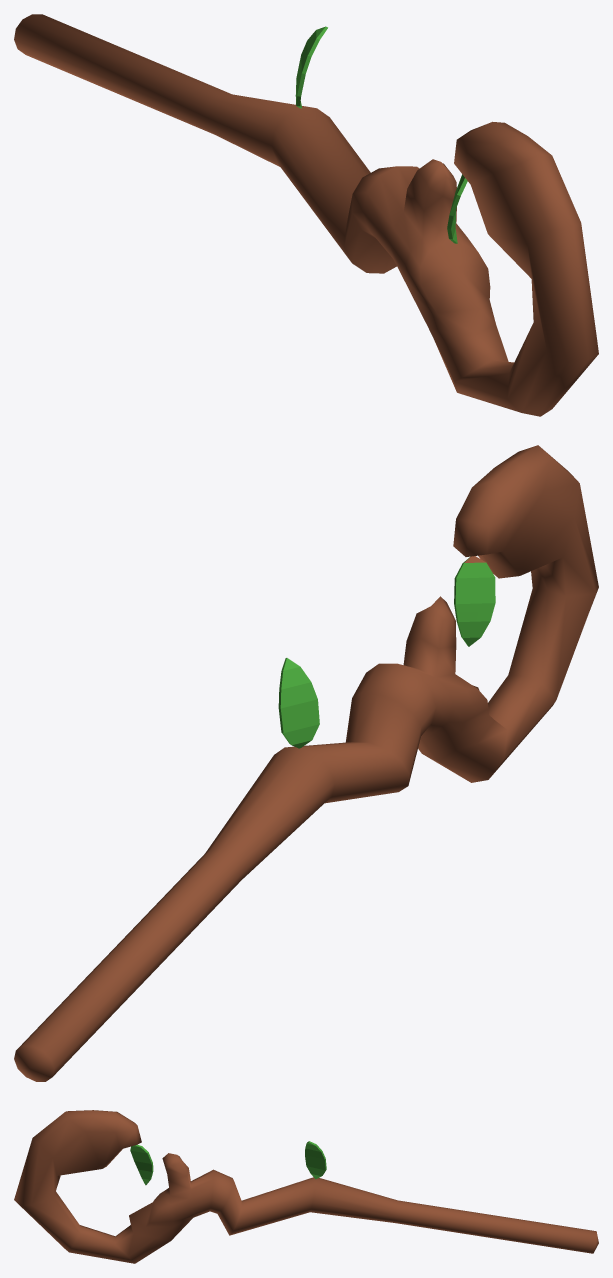
The model's file is WizardStaff.fbx.
The picture shows the model from 3 angles, top to bottom: view 1: azimuth 30°, elevation 25°; view 2: azimuth 150°, elevation 25°; view 3: azimuth 270°, elevation 25°; orthographic projection. The views are drawn at different scales.
Parts seen in each view (by area): view 1: Cylinder.020; view 2: Cylinder.020; view 3: Cylinder.020.
Boxes of the visible parts, box(x1,y1,x2,y2) form: Cylinder.020: box(14, 14, 598, 416); Cylinder.020: box(14, 445, 598, 1081); Cylinder.020: box(14, 1110, 598, 1263).
Size of the model in its own units: 0.3131 by 1.17 by 4.06.
